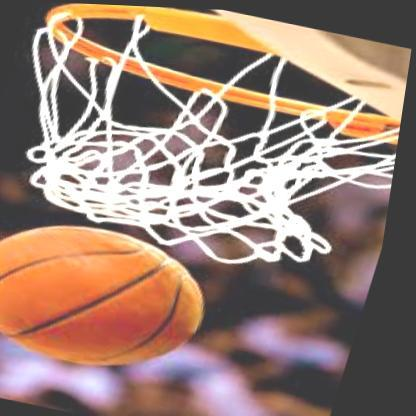basketball: (0, 205, 231, 383)
rim: (0, 0, 416, 279)
